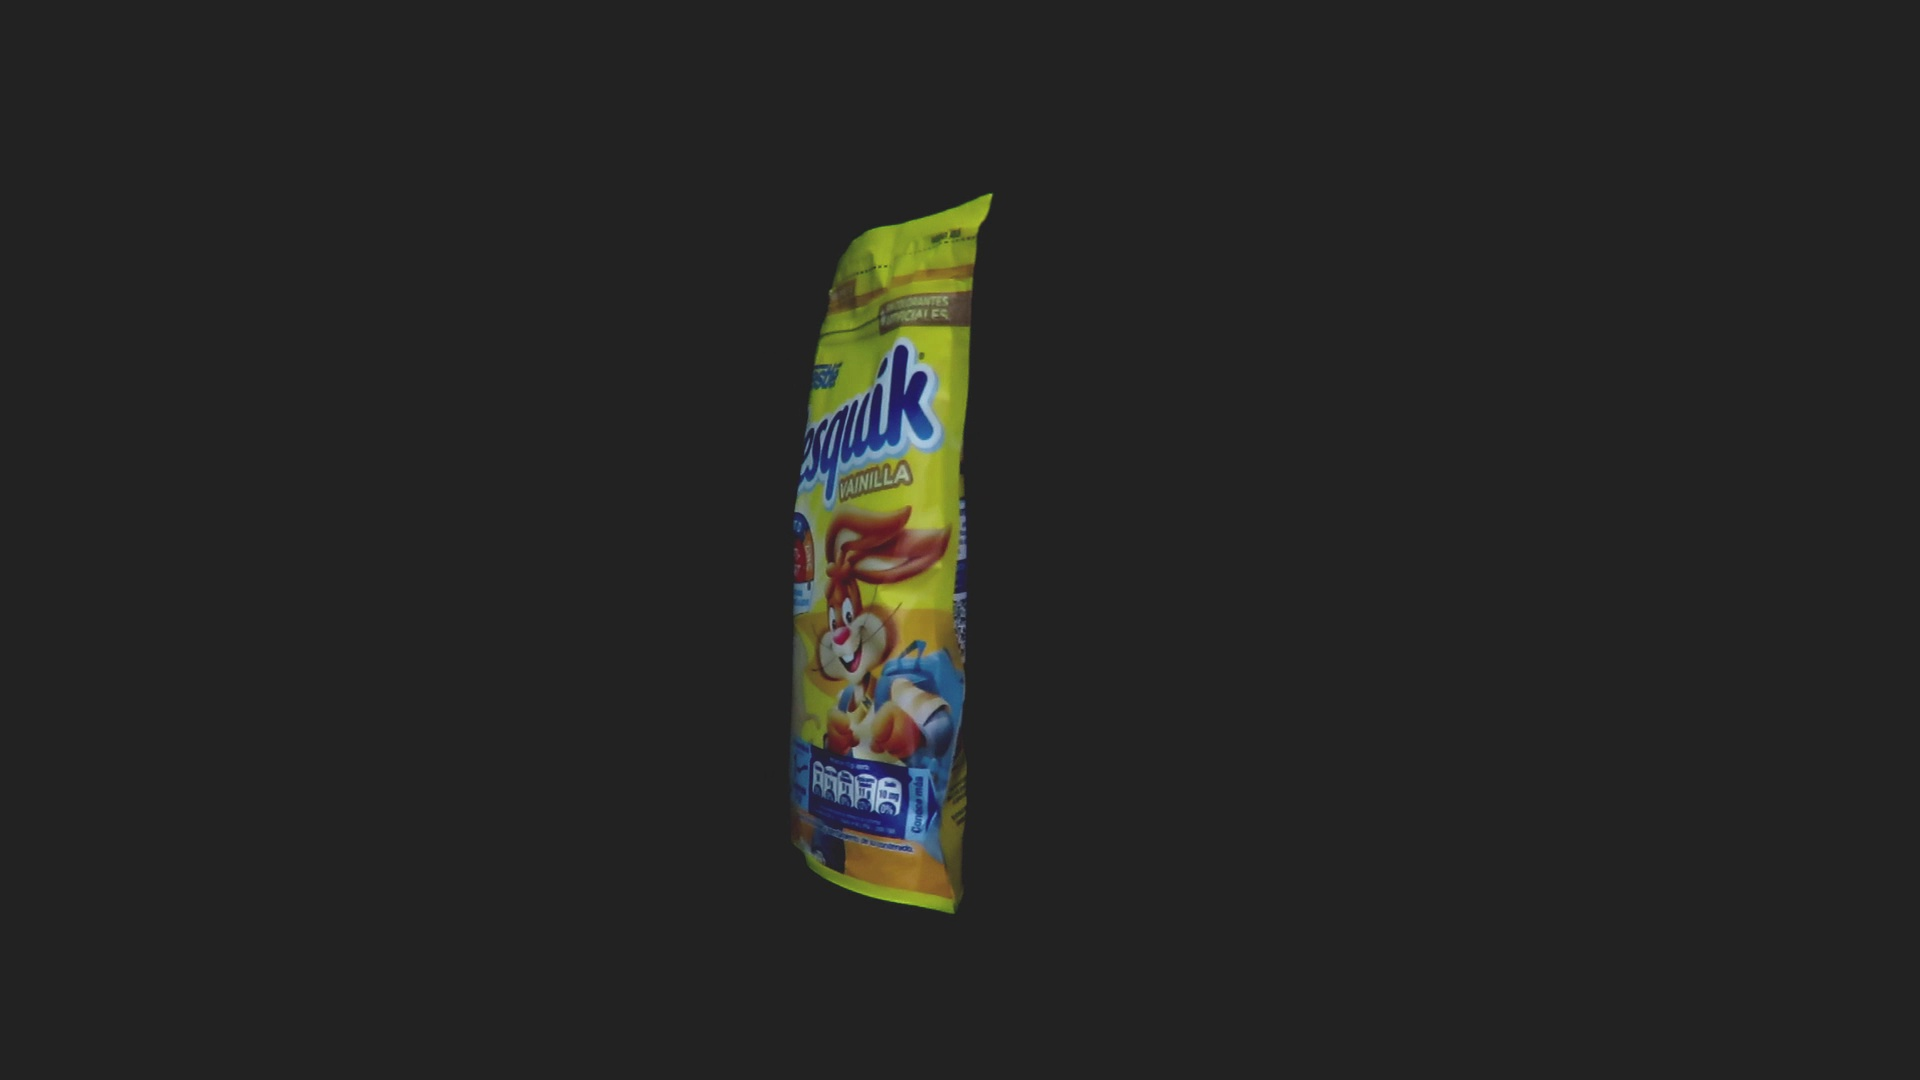COL0170306DYP20000: (783, 189, 1000, 920)
